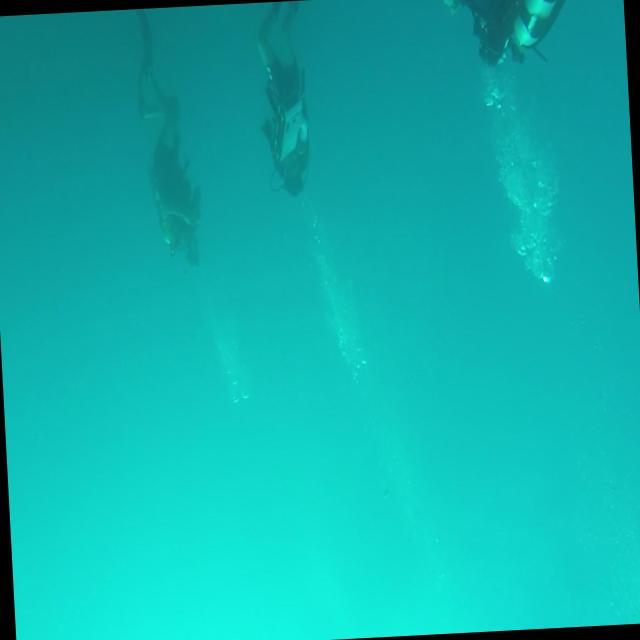human: (133, 6, 206, 272), (429, 0, 590, 83), (254, 1, 314, 200)
